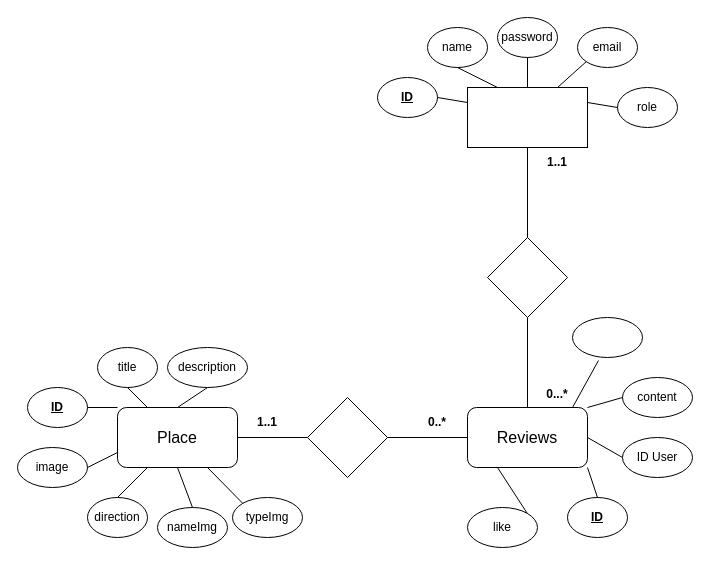
The diagram is 710 pixels wide and 565 high, and some of its shapes have lost their labels. Each missing label, with the centre of its shape:
"Has" goes at pixel 347 437.
"ID Place" goes at pixel 607 337.
"User" goes at pixel 527 117.
"Writes" goes at pixel 527 277.
